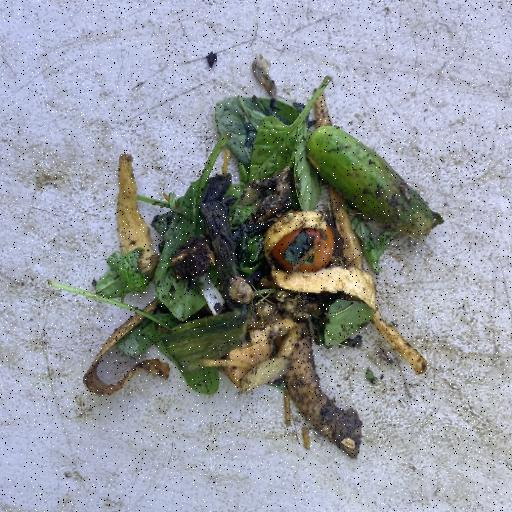Waste: (48, 70, 444, 460)
